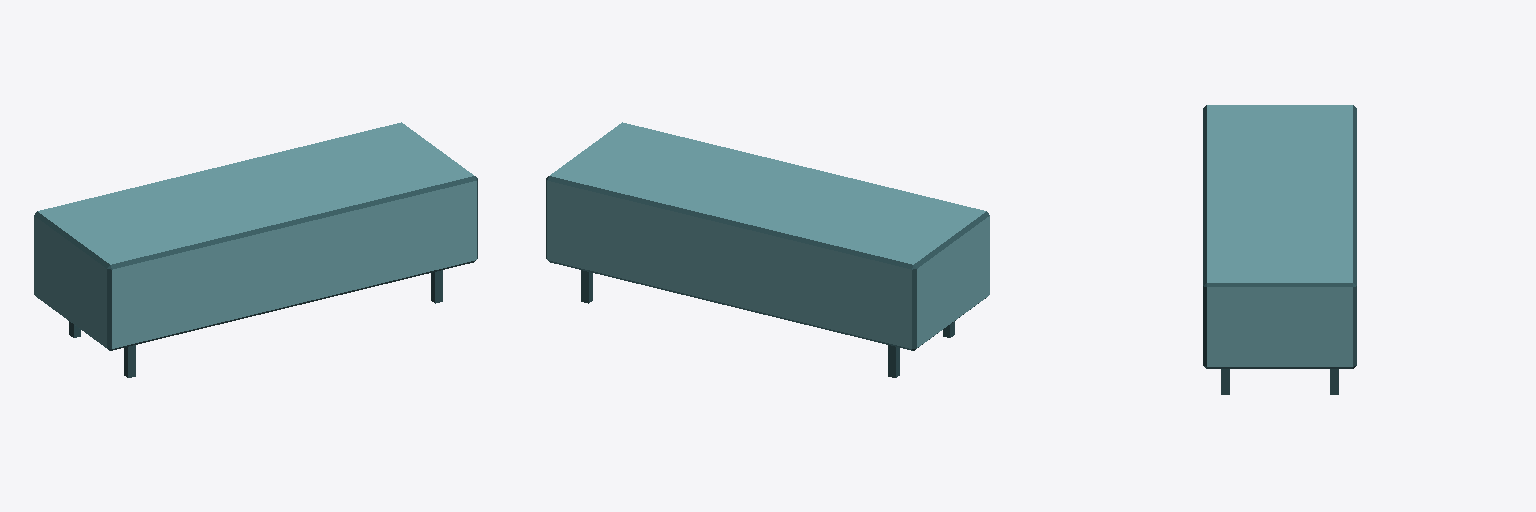
3 renders of one model, left to right at view 1: azimuth 30°, elevation 25°; view 2: azimuth 150°, elevation 25°; view 3: azimuth 270°, elevation 25°, orthographic.
Parts seen in each view (by area): view 1: Taburete; view 2: Taburete; view 3: Taburete.
Part boxes in pixels (x1,y1,x2,y2): Taburete: (34,122,477,377); Taburete: (546,122,989,377); Taburete: (1203,105,1356,394).
Size of the model in its own units: 0.968 by 0.3113 by 0.3477.
Materials: 1 (1 with a texture image).